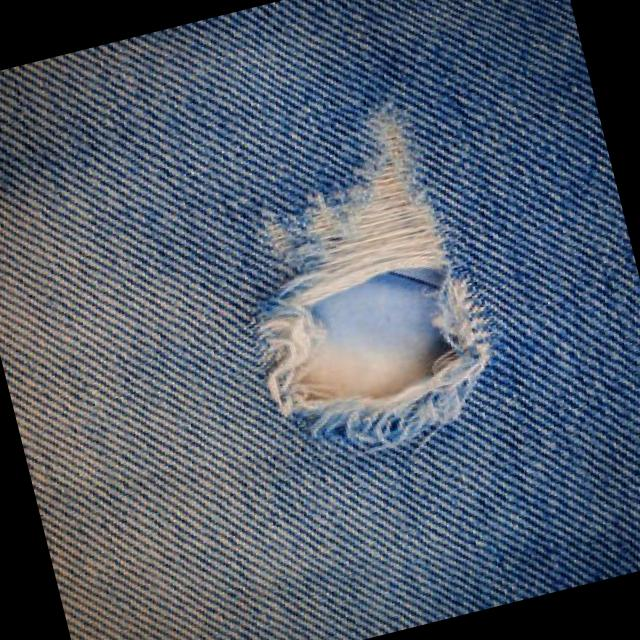hole: (201, 86, 508, 463)
